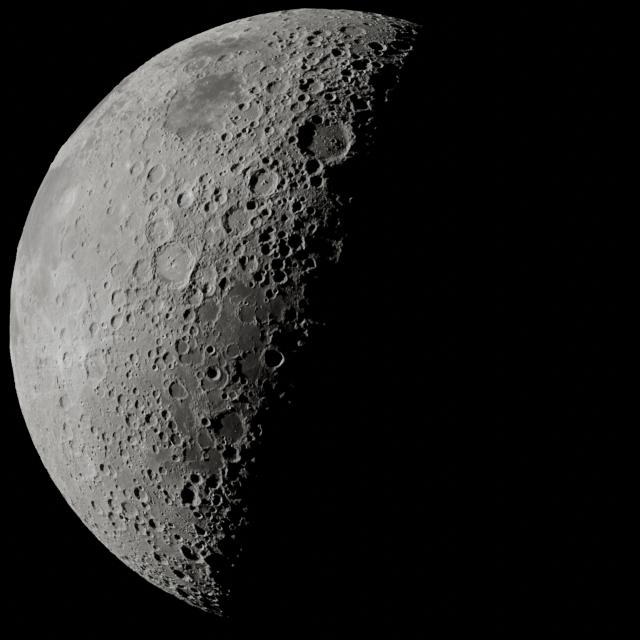crater: (59, 227, 88, 260), (295, 120, 321, 156), (145, 216, 175, 246), (217, 412, 245, 442), (225, 206, 253, 234), (252, 173, 278, 198), (198, 300, 222, 326), (84, 356, 106, 380), (266, 296, 288, 320), (110, 260, 133, 282), (242, 59, 266, 80), (183, 56, 210, 74), (146, 163, 167, 186), (338, 24, 366, 41), (263, 348, 285, 369), (238, 303, 258, 324), (196, 429, 215, 450), (176, 190, 195, 209), (168, 381, 188, 399), (110, 289, 128, 308), (304, 157, 322, 176), (129, 159, 146, 179), (188, 288, 205, 308), (367, 36, 384, 56), (242, 256, 260, 274), (211, 187, 228, 206), (306, 79, 326, 95), (121, 501, 139, 518), (180, 486, 196, 505), (130, 260, 146, 279), (306, 33, 326, 48), (298, 76, 316, 92), (350, 57, 370, 71), (204, 365, 220, 382), (181, 545, 198, 561), (62, 440, 76, 459), (394, 40, 412, 54), (228, 161, 244, 176), (176, 339, 190, 355), (140, 299, 154, 314), (265, 80, 280, 94), (290, 199, 304, 214), (203, 282, 217, 297), (58, 394, 71, 410), (304, 256, 318, 270), (169, 432, 182, 447), (110, 313, 123, 328), (322, 90, 337, 103), (164, 88, 179, 100), (202, 199, 214, 214), (61, 351, 72, 367), (148, 190, 161, 203), (123, 414, 135, 428), (216, 54, 230, 66), (160, 351, 172, 365), (182, 307, 194, 321), (160, 489, 172, 502), (172, 568, 185, 580), (138, 490, 149, 504), (331, 47, 345, 58), (310, 114, 324, 125), (129, 354, 140, 367), (88, 322, 98, 336), (146, 468, 157, 480), (263, 125, 275, 136), (105, 204, 115, 217), (116, 393, 126, 406), (124, 311, 134, 324), (205, 345, 216, 356), (297, 92, 308, 103), (220, 131, 230, 143), (108, 467, 118, 479), (106, 386, 116, 398), (152, 551, 162, 563), (160, 409, 170, 420), (54, 293, 62, 306), (106, 498, 115, 509), (157, 466, 166, 476), (237, 102, 246, 112), (100, 431, 108, 442), (173, 533, 182, 542), (90, 425, 98, 435), (155, 336, 163, 346), (62, 422, 68, 432), (243, 27, 253, 33), (99, 463, 105, 472)
rock: (348, 94, 372, 114), (286, 232, 304, 251), (110, 512, 126, 532), (258, 228, 275, 246), (225, 446, 242, 464), (203, 474, 220, 492), (282, 306, 298, 324), (270, 257, 286, 274), (308, 173, 324, 189), (217, 276, 229, 292), (238, 254, 250, 270), (194, 522, 207, 536), (245, 197, 258, 211), (132, 486, 144, 500), (147, 518, 157, 530)
